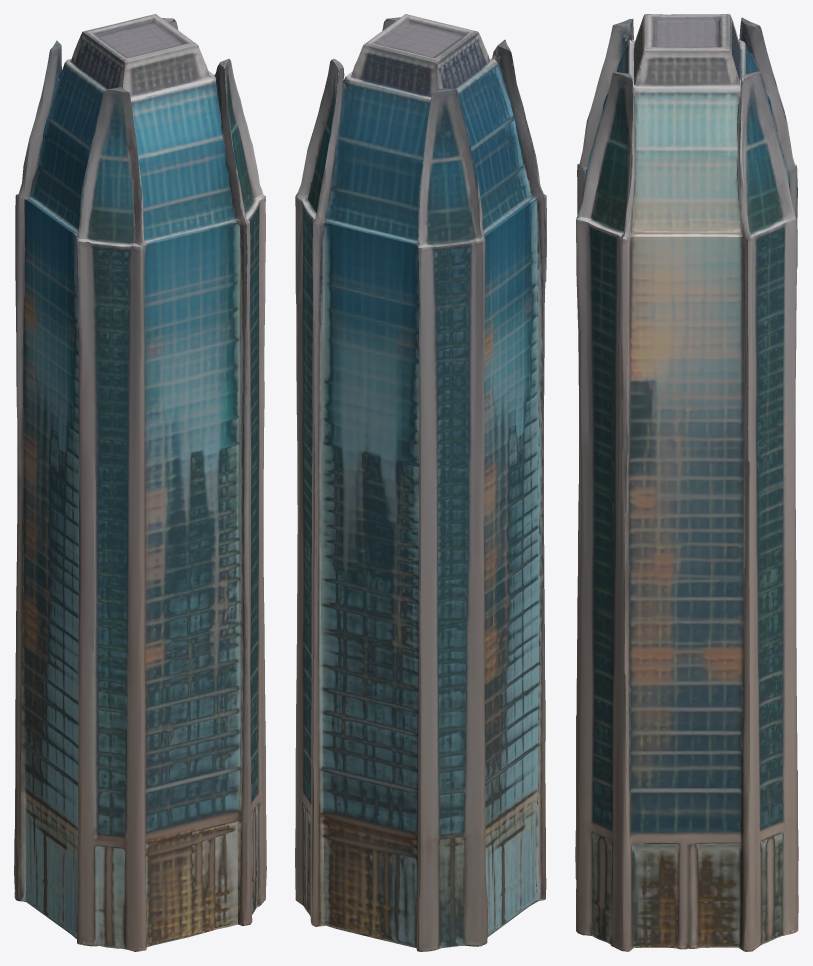
File: bld_glass_tower_2000s.glb
3 views of the same model, side by side, from view 1: azimuth 30°, elevation 25°; view 2: azimuth 150°, elevation 25°; view 3: azimuth 270°, elevation 25° (orthographic).
Visible parts, largest first — view 1: geometry_0; view 2: geometry_0; view 3: geometry_0.
Boxes of the visible parts, left/top/right/bottom form: geometry_0: left=14, top=14, right=266, bottom=951; geometry_0: left=295, top=14, right=546, bottom=951; geometry_0: left=575, top=14, right=798, bottom=951.
Size of the model in its own units: 36.9 by 160 by 37.02.
1 material, 1 textured.
